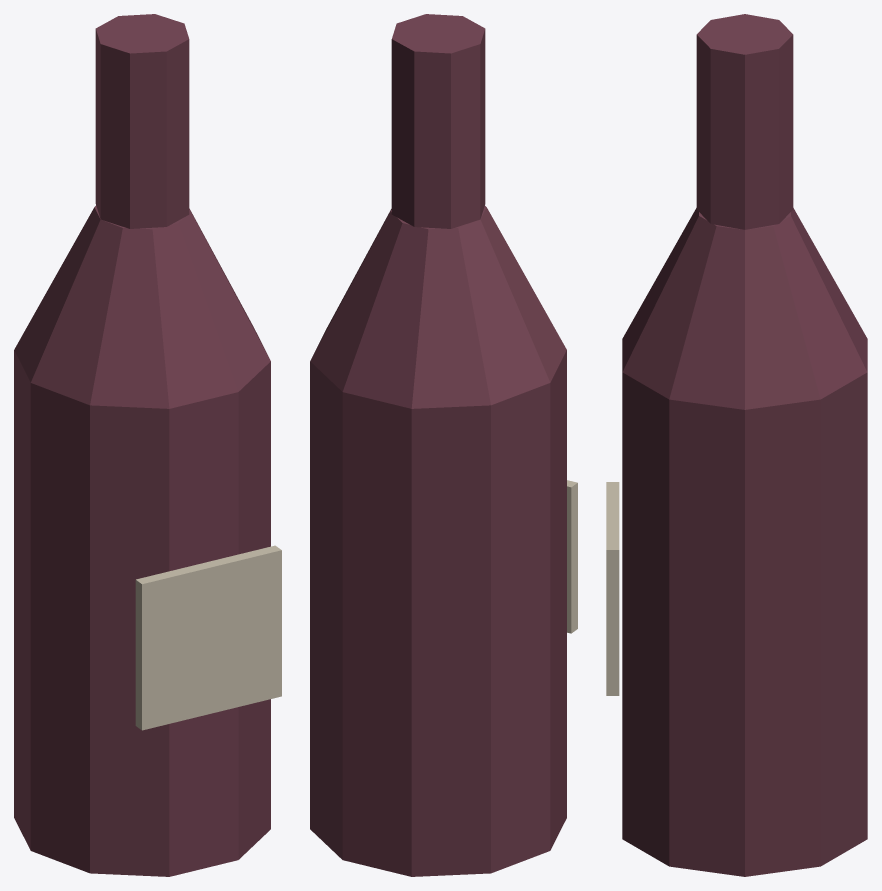
The model's file is vallo_red.glb.
The picture shows the model from 3 angles, left to right: view 1: azimuth 30°, elevation 25°; view 2: azimuth 150°, elevation 25°; view 3: azimuth 270°, elevation 25°; orthographic projection.
Parts seen in each view (by area): view 1: vallo_red; view 2: vallo_red; view 3: vallo_red.
Part boxes in pixels (box(x1,y1,x2,y2)): vallo_red: box(14, 14, 281, 876); vallo_red: box(310, 14, 577, 876); vallo_red: box(606, 14, 867, 876).
Bounding box in the file's own units: 0.08 × 0.27 × 0.081.
